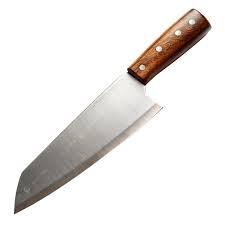Knife: (13, 7, 211, 214)
